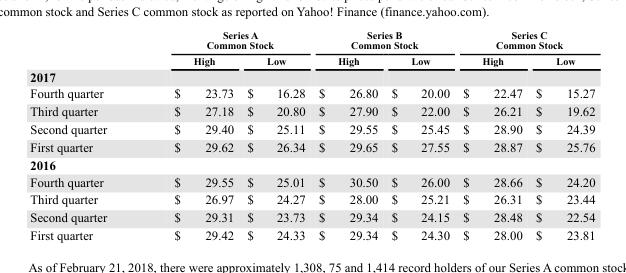table: (29, 28, 594, 242)
table column: (29, 28, 139, 242), (139, 28, 239, 242), (311, 28, 384, 242), (455, 28, 528, 242), (239, 28, 311, 242), (384, 28, 455, 242), (528, 28, 594, 242)
table column header: (29, 28, 594, 67)
table projected row header: (29, 67, 594, 84), (29, 155, 594, 172)
table row: (29, 28, 594, 52), (29, 84, 594, 102), (29, 119, 594, 137), (29, 137, 594, 155), (29, 172, 594, 190), (29, 190, 594, 208), (29, 67, 594, 84), (29, 102, 594, 119), (29, 155, 594, 172), (29, 208, 594, 225), (29, 225, 594, 242), (29, 52, 594, 67)
table spanning cell: (139, 28, 311, 52), (311, 28, 455, 52), (455, 28, 594, 52)
